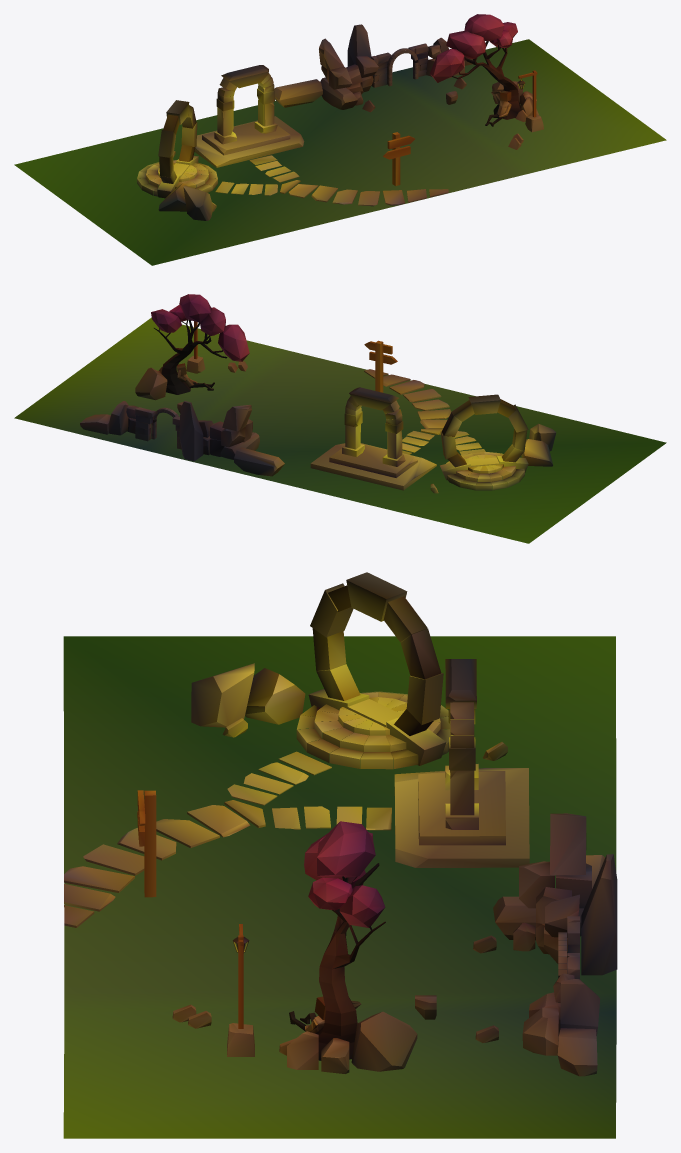
The model's file is test-materials.glb.
3 views of the same model, one above another, from view 1: azimuth 30°, elevation 25°; view 2: azimuth 150°, elevation 25°; view 3: azimuth 270°, elevation 25° (orthographic). The views are drawn at different scales.
Parts seen in each view (by area): view 1: baked; view 2: baked; view 3: baked.
Part boxes in pixels (<box>): baked: <box>14,14,666,265</box>; baked: <box>14,294,666,543</box>; baked: <box>63,572,617,1138</box>.
Size of the model in its own units: 8.03 by 1.52 by 3.74.
